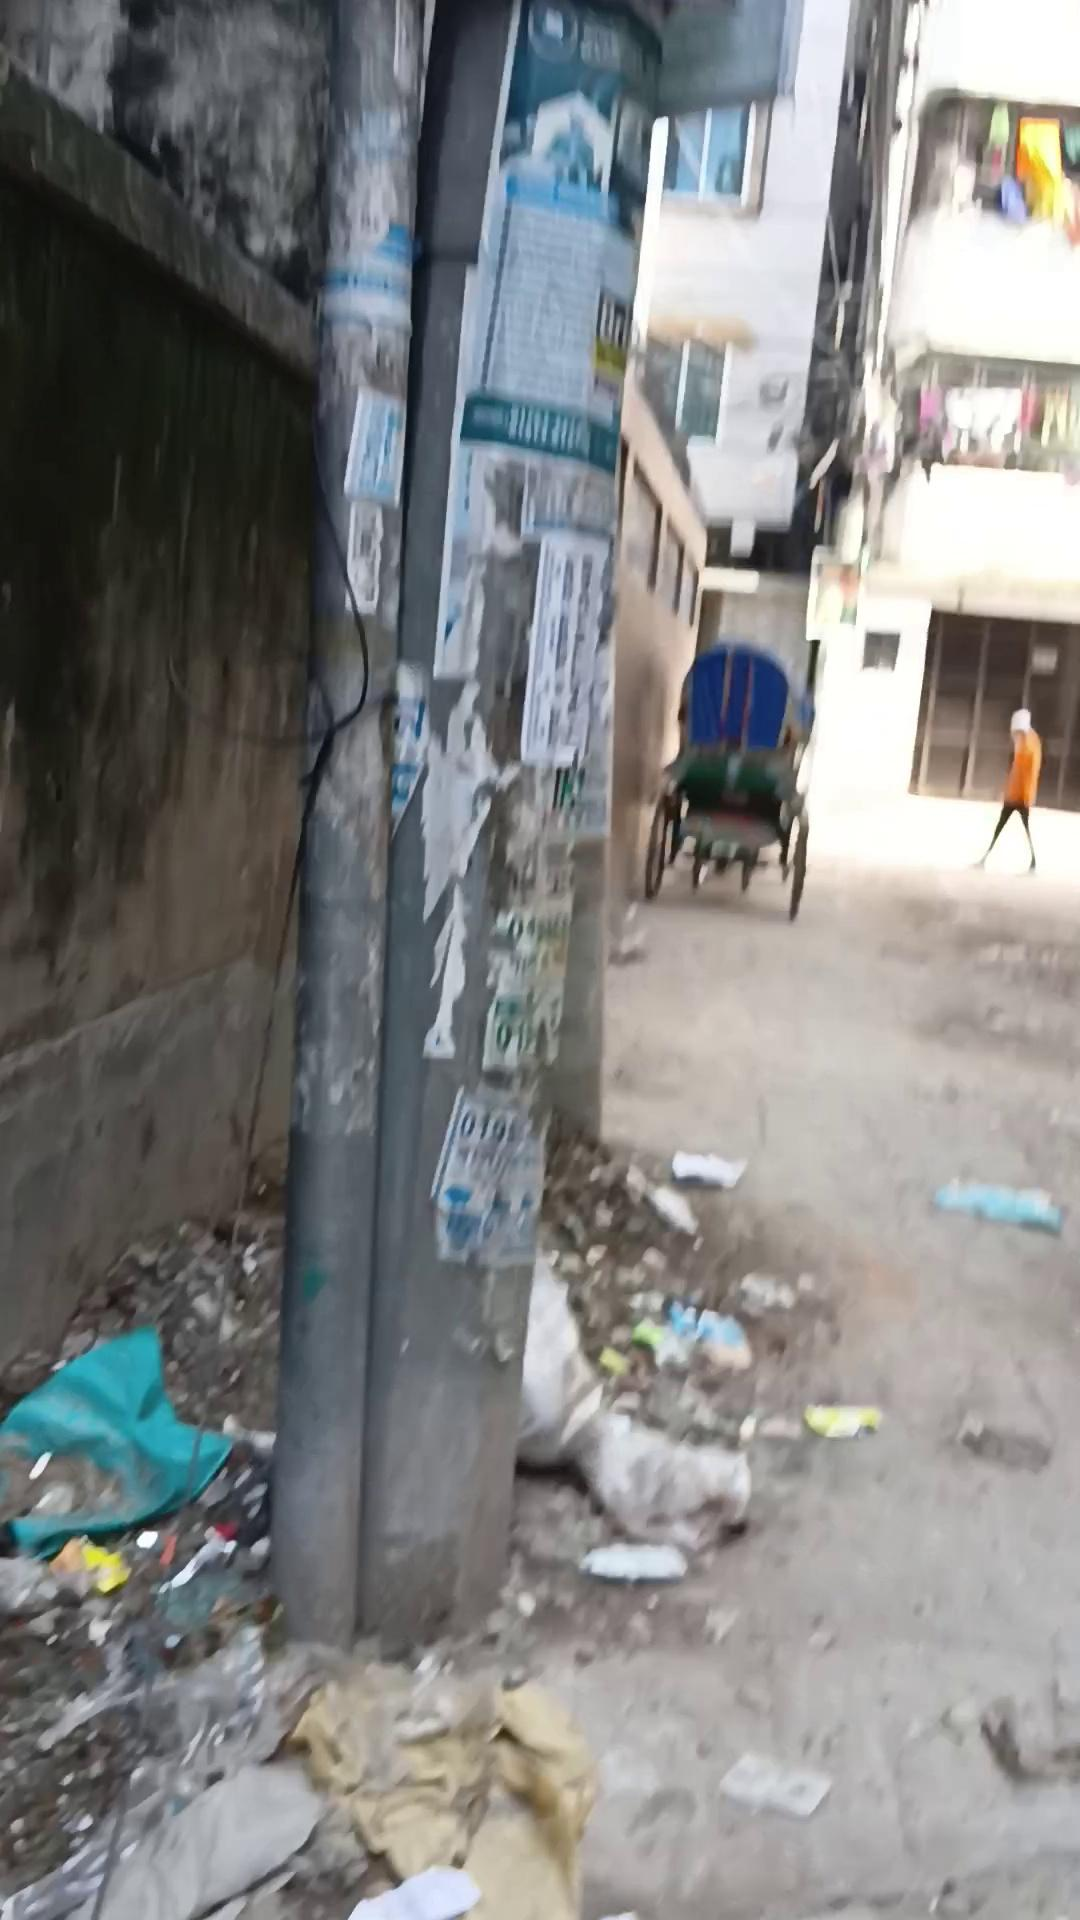Fence: (11, 1146, 782, 1920)
Muddy road: (978, 707, 1042, 873)
Obstacle: (264, 1, 665, 1662)
Pothole: (640, 640, 814, 923)
